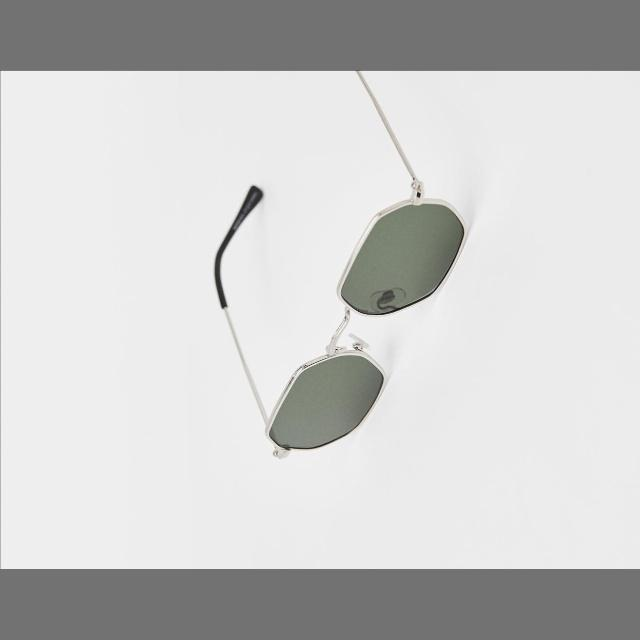Sunglasses: (155, 81, 497, 483)
